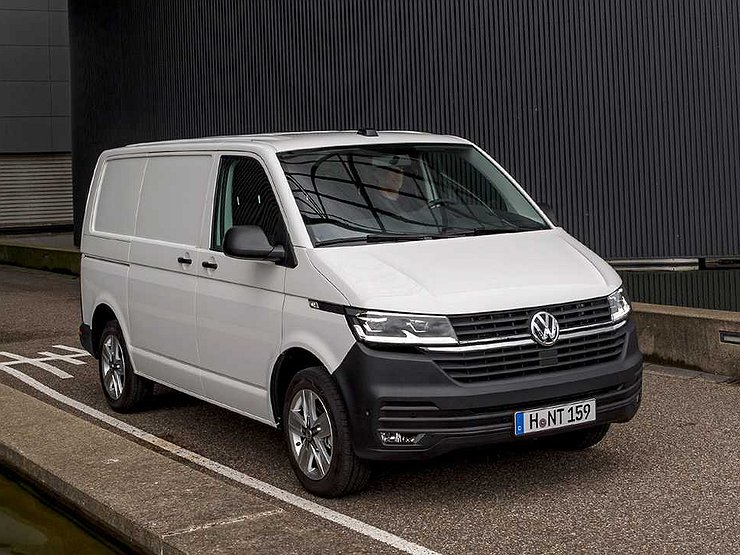van: (75, 123, 645, 495)
